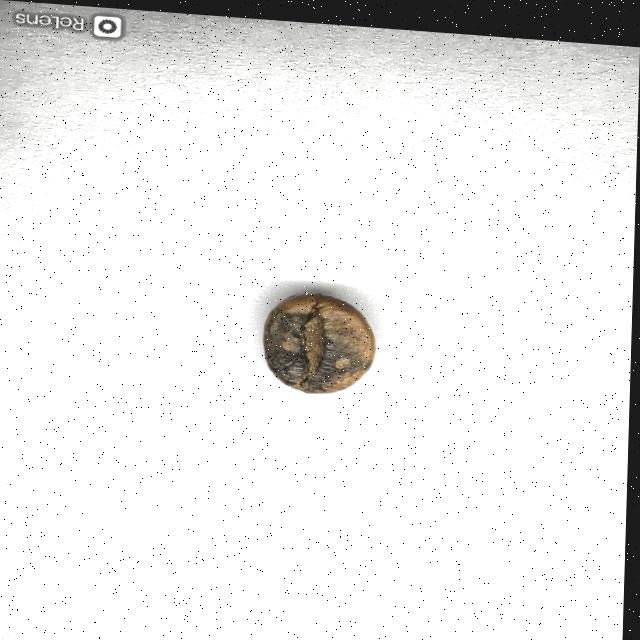Scorched: (262, 284, 381, 395)
